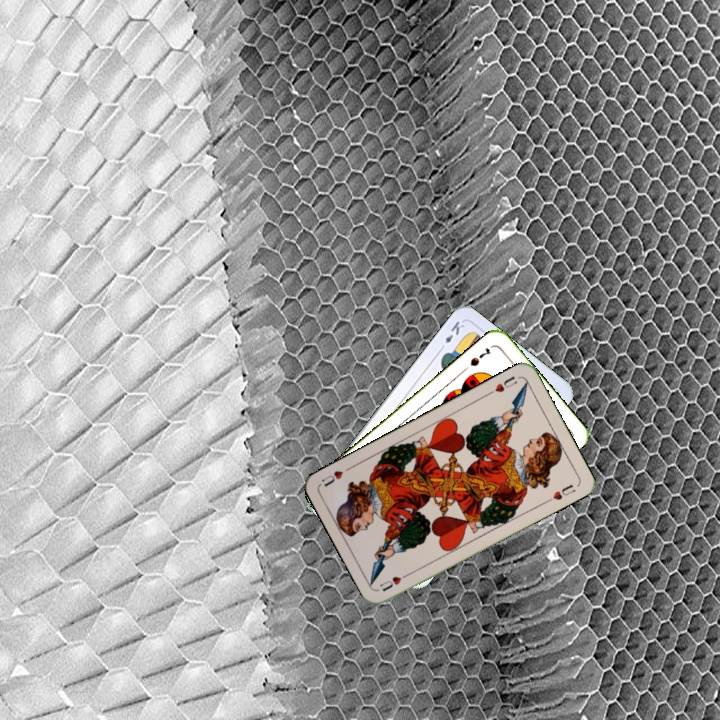EK: (436, 317, 467, 353)
HU: (375, 568, 413, 594), (484, 372, 520, 397)
S7: (466, 344, 493, 369)
